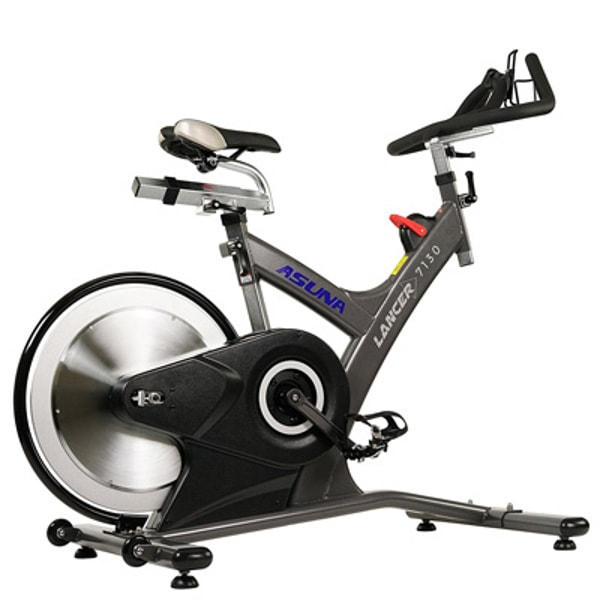gym_bike: (17, 48, 593, 590)
